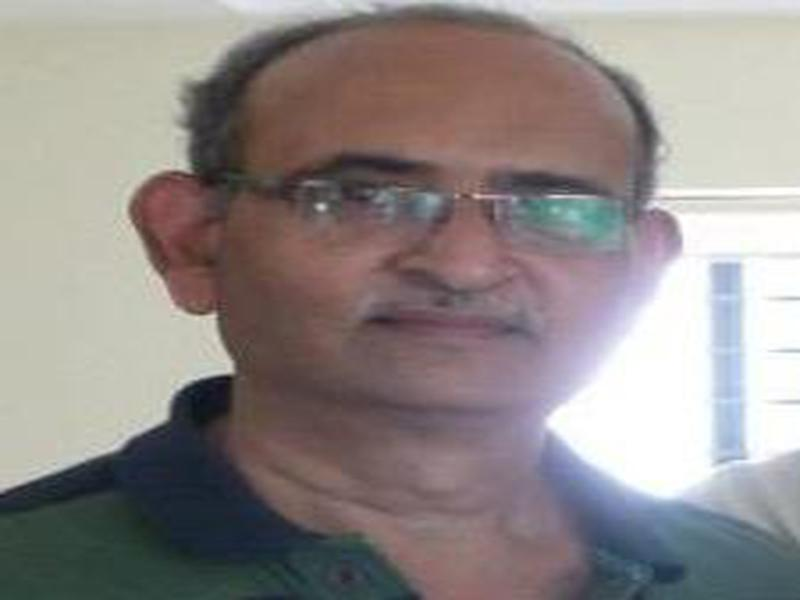without_mask: (215, 79, 643, 416)
